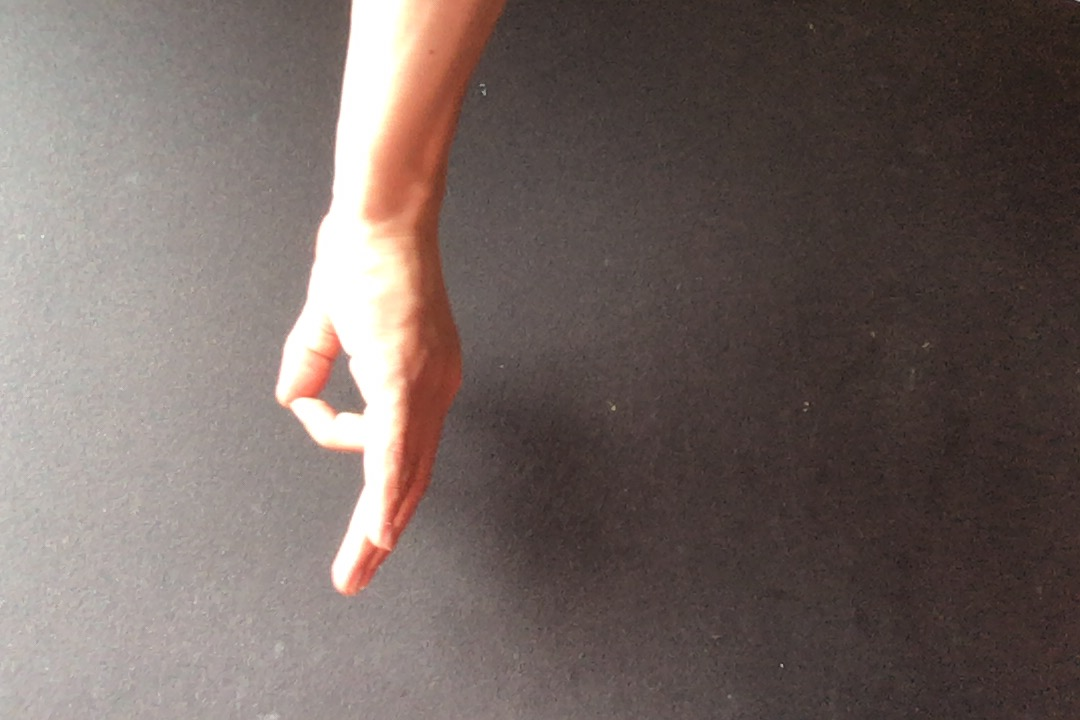oksign: (265, 212, 471, 599)
